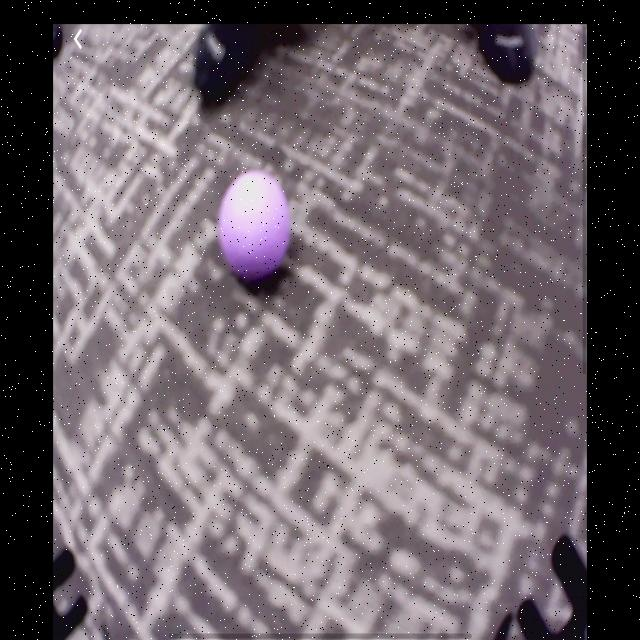ball: (219, 169, 292, 284)
